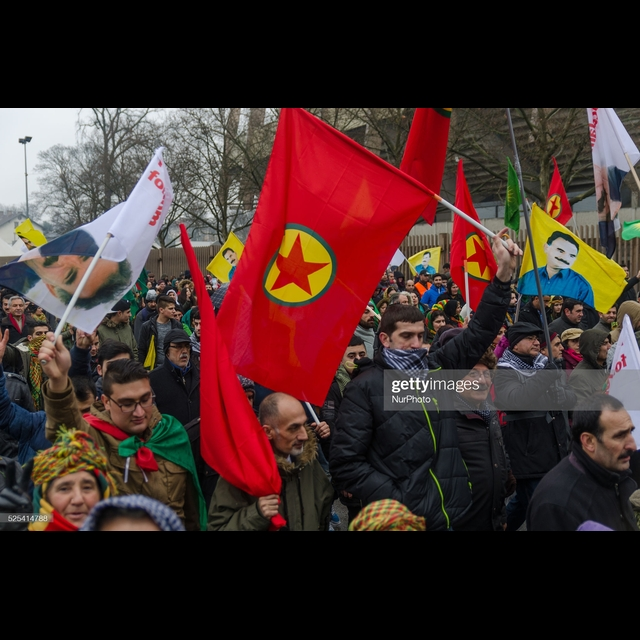APO: (541, 232, 583, 273)
PKK: (258, 222, 338, 313)
